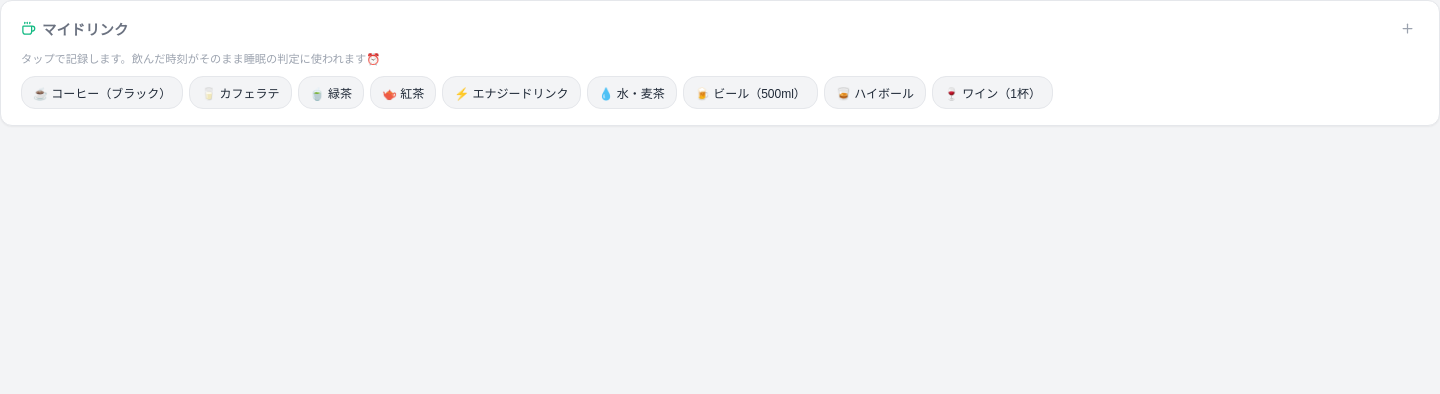
Scenario: DrinkQuickLog › does not submit an unnamed preset
Click the button named "飲み物を登録": (1408, 28) [1396, 17, 1419, 40]
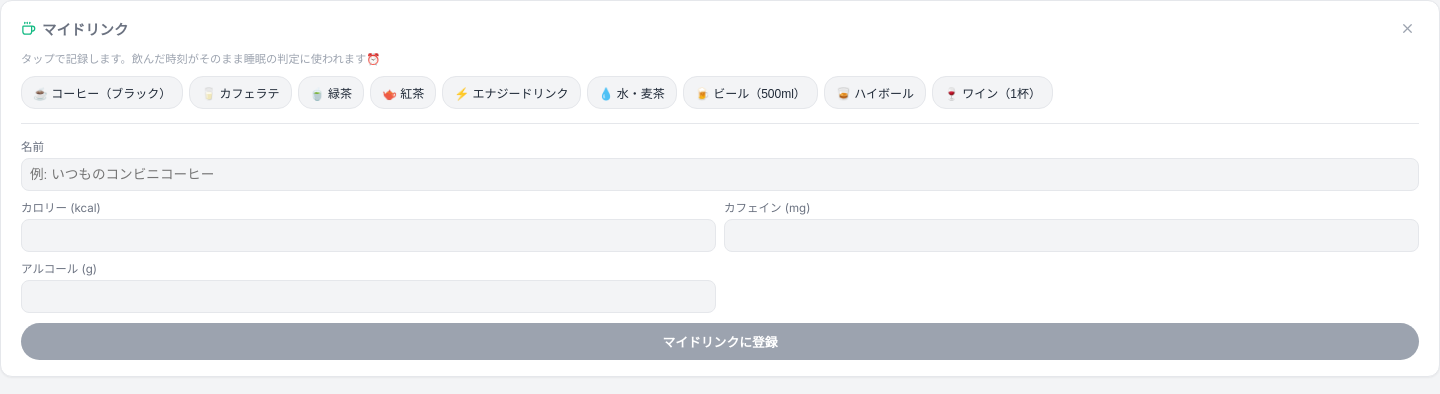
Now the button "マイドリンクに登録" is disabled, box [21, 323, 1419, 360]
